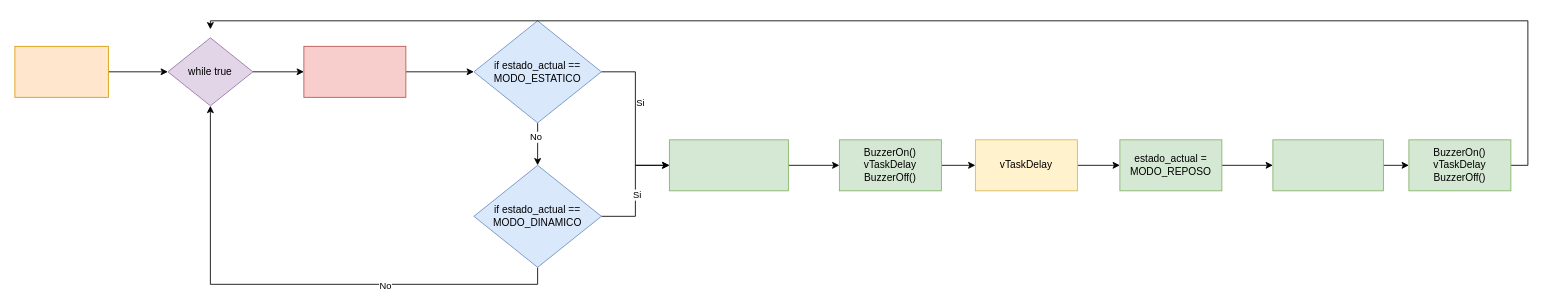
Image size: 1550x306. Some labels were removed from this diagram. Here are the shapes that lost their labels. From the top down, the centre of each, then its label:
the point at 61,71: Pruebas
the point at 354,71: ulTaskNotifyTake
the point at 728,165: ReiniciarAcumuladores()
the point at 1327,165: EnviarResultadoFinal()
